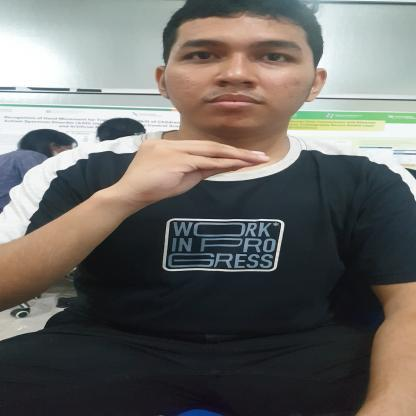Malam: (77, 134, 275, 238)
